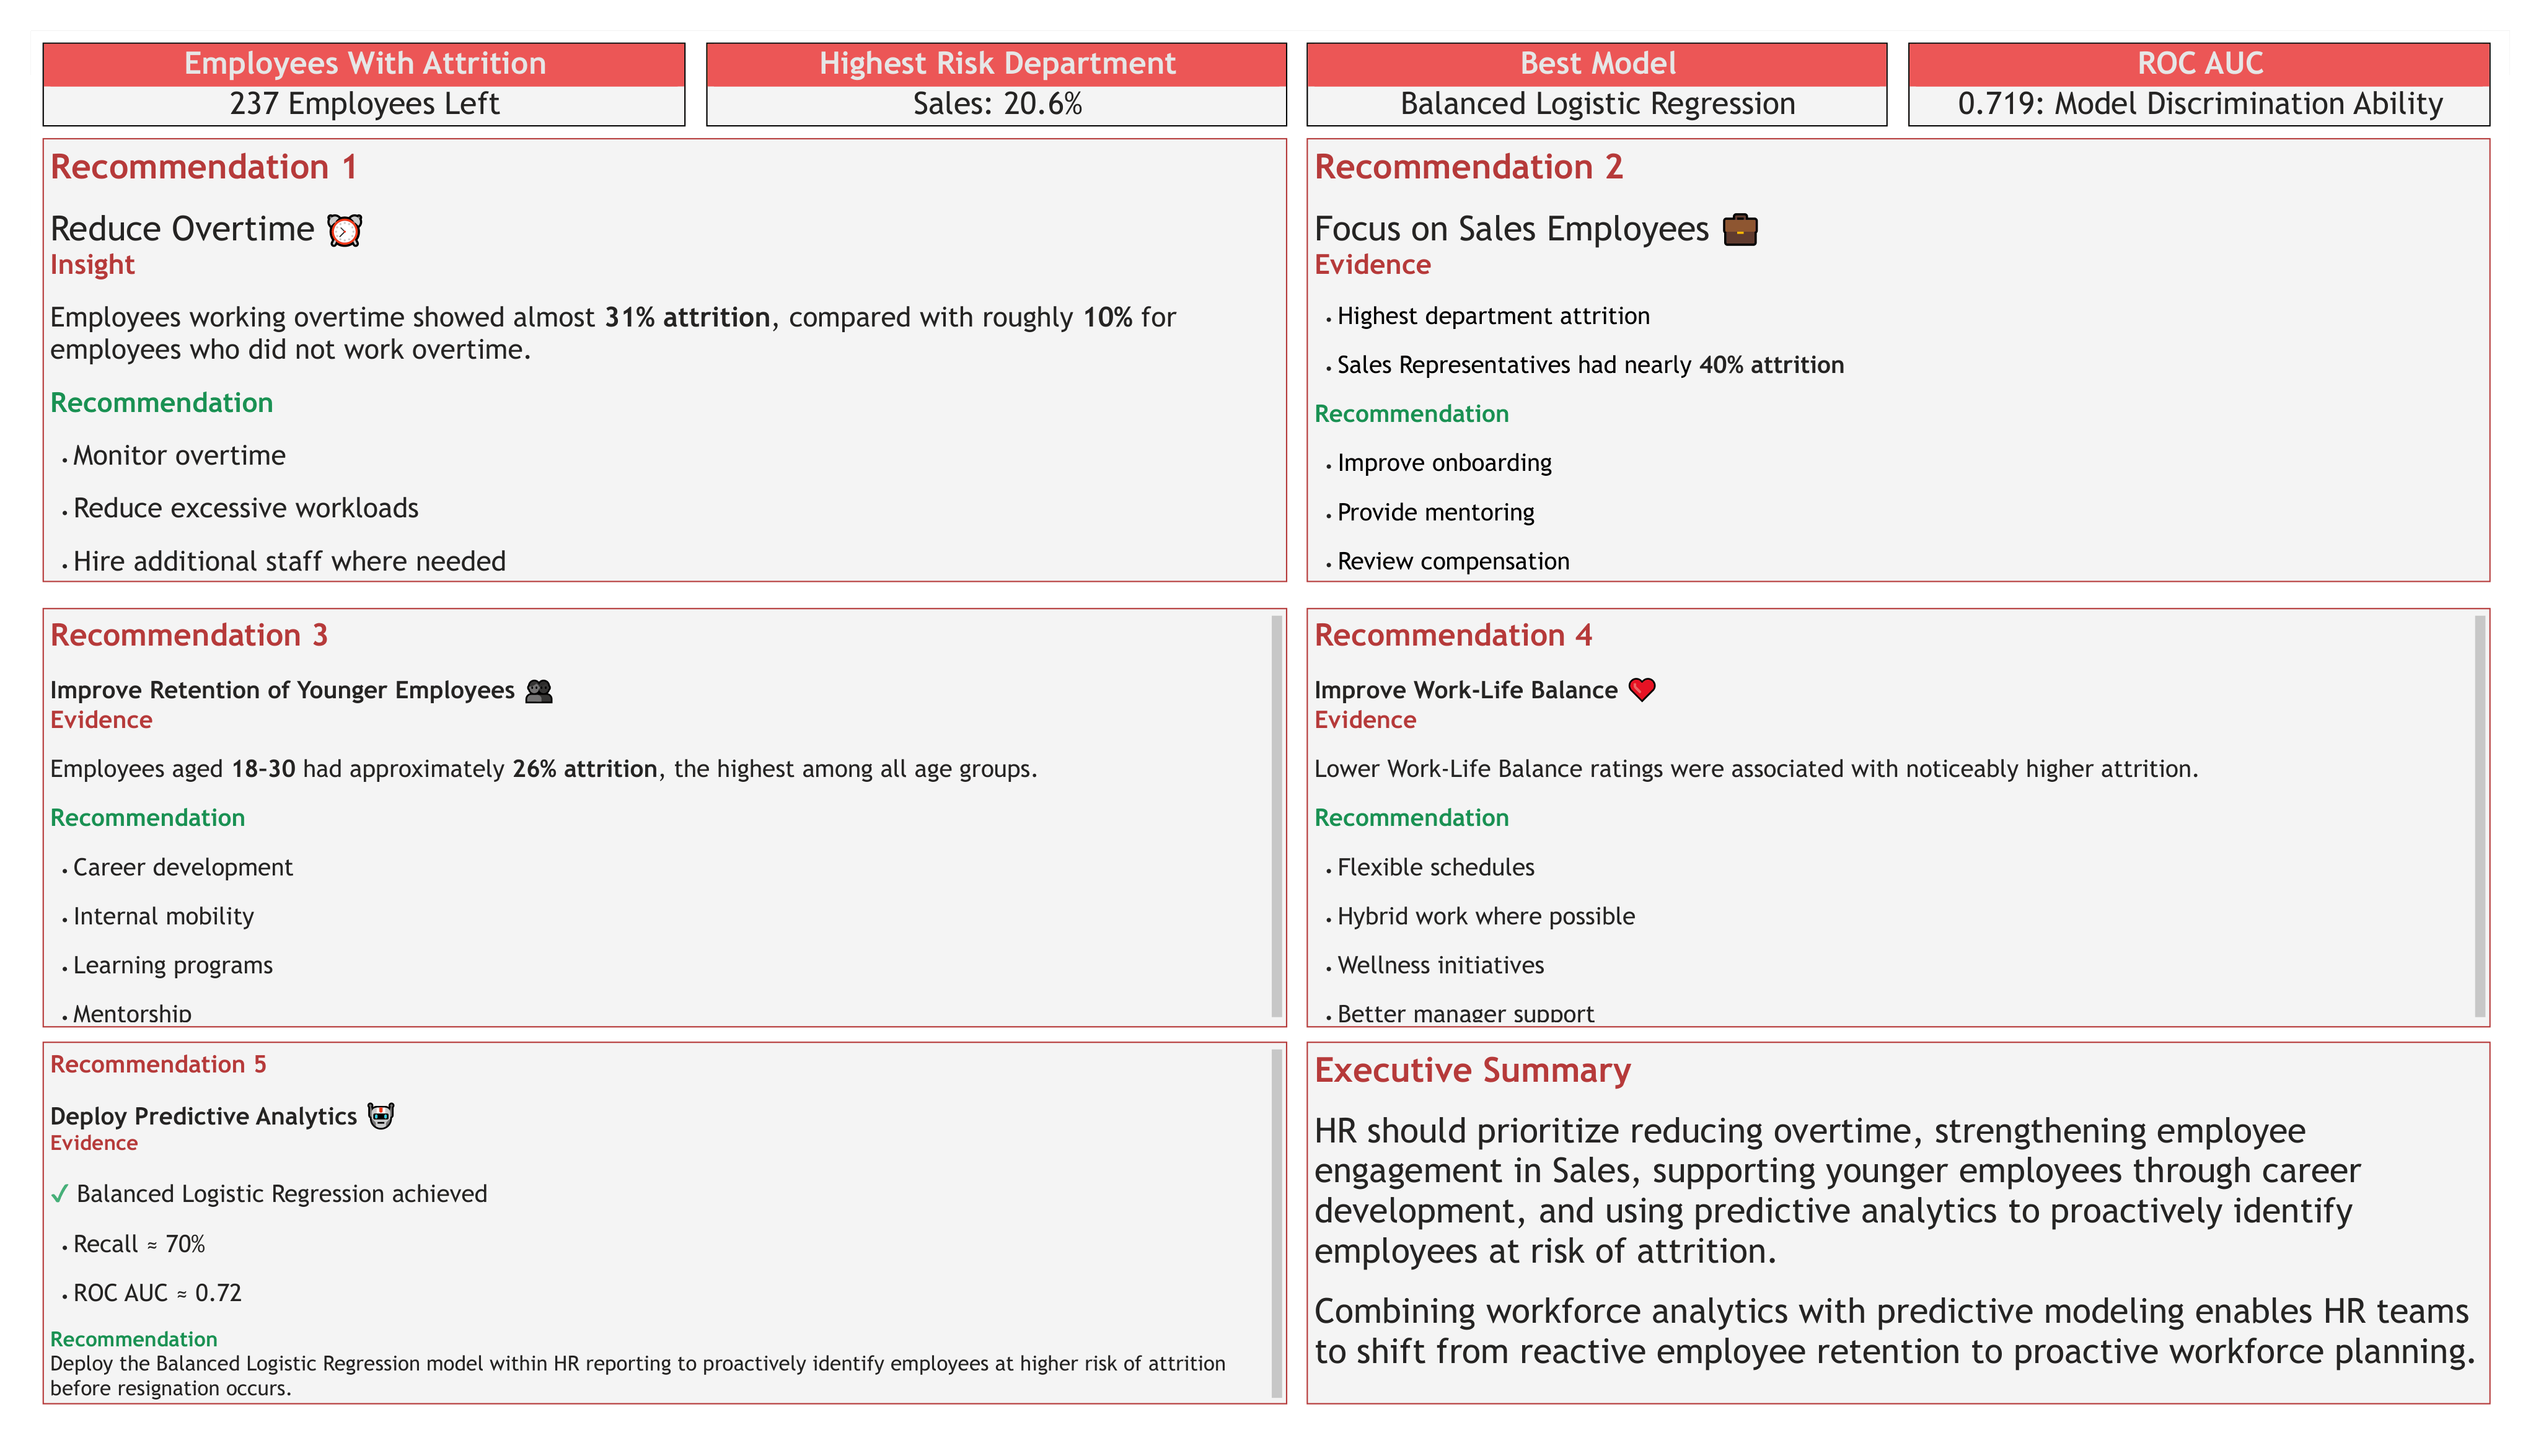

The dashboard page shown, as its layout file describes it:
{"tool":"powerbi","page":{"name":"Business Recommendations","canvas":[1920,1080],"ordinal":3},"visuals":[{"type":"card","title":"Employees With Attrition","fields":{"Values":["clean_hr_attrition.Employees with Attrition"]},"box":[9,9,497.5,65.1],"z":0},{"type":"card","title":"Highest Risk Department","fields":{"Values":["clean_hr_attrition.Highest Risk Department"]},"box":[522.8,9,450.5,65.1],"z":1000},{"type":"card","title":"Best Model","fields":{"Values":["clean_hr_attrition.Best Model"]},"box":[987.7,9,450.5,65.1],"z":2000},{"type":"card","title":"ROC AUC","fields":{"Values":["clean_hr_attrition.ROC AUC"]},"box":[1454.5,9,450.5,65.1],"z":3000},{"type":"textbox","box":[9,83.2,964.2,343.7],"z":4000},{"type":"textbox","box":[987.7,83.2,917.2,343.7],"z":5000},{"type":"textbox","box":[9,446.8,964.2,325.6],"z":6000},{"type":"textbox","box":[987.7,446.8,917.2,325.6],"z":7000},{"type":"textbox","box":[9,783.3,964.2,280.4],"z":8000},{"type":"textbox","box":[987.7,783.3,917.2,280.4],"z":9000}]}

Visuals, with their boxes on the page's 1920x1080 design canvas (x1, y1, x2, y2). These are canvas units, not pixel positions in the 2541x1456 screenshot, which may show the page scaled, cropped or inside an application window:
"Employees With Attrition" card: l=9, t=9, r=506, b=74
"Highest Risk Department" card: l=523, t=9, r=973, b=74
"Best Model" card: l=988, t=9, r=1438, b=74
"ROC AUC" card: l=1454, t=9, r=1905, b=74
textbox: l=9, t=83, r=973, b=427
textbox: l=988, t=83, r=1905, b=427
textbox: l=9, t=447, r=973, b=772
textbox: l=988, t=447, r=1905, b=772
textbox: l=9, t=783, r=973, b=1064
textbox: l=988, t=783, r=1905, b=1064
